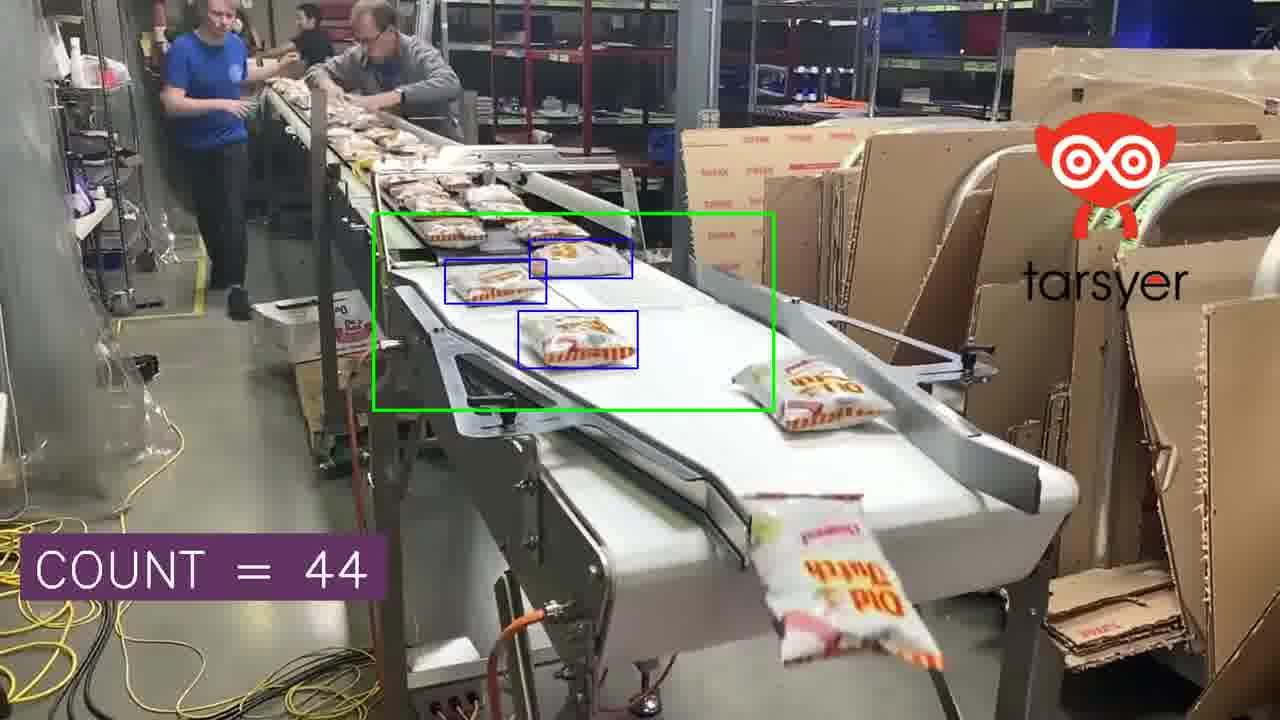Snack: (744, 494, 943, 670), (772, 356, 893, 431), (518, 310, 638, 367), (444, 258, 550, 304), (529, 239, 633, 278), (404, 213, 499, 248), (384, 178, 464, 211), (463, 183, 529, 223), (508, 215, 589, 240), (333, 134, 382, 162), (399, 195, 467, 214), (375, 129, 420, 150), (388, 141, 438, 159), (436, 173, 473, 193), (361, 127, 402, 145)
